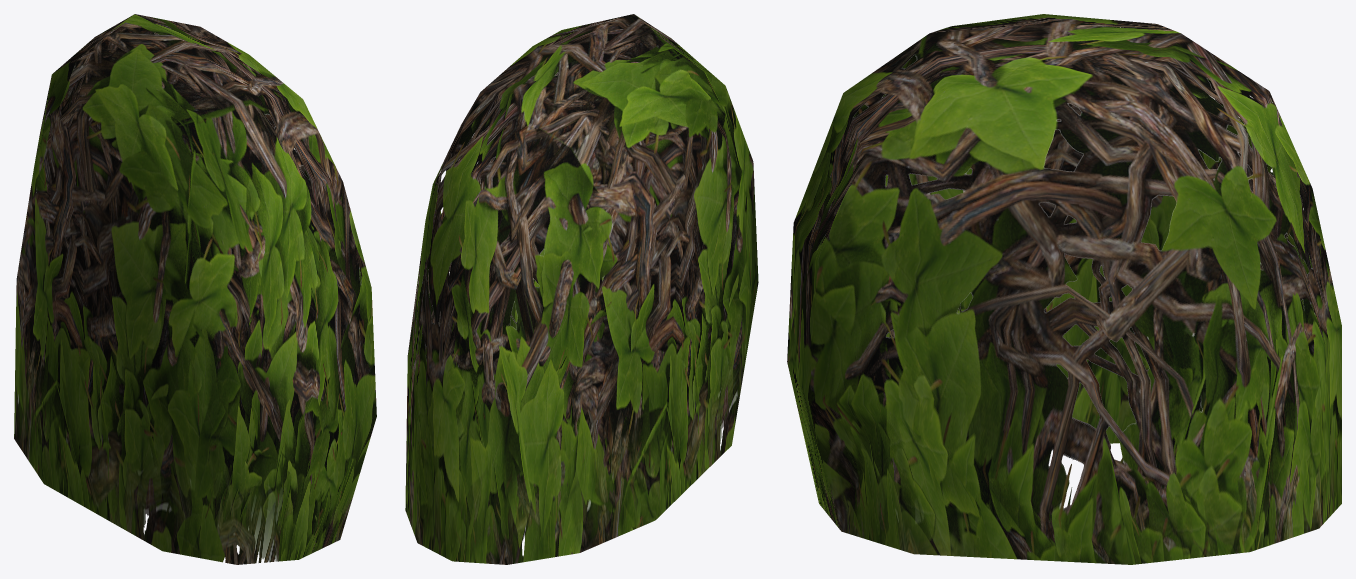
File: LCN_ENV_EP_MILLVINE.fbx
3 views of the same model, side by side, from view 1: azimuth 30°, elevation 25°; view 2: azimuth 150°, elevation 25°; view 3: azimuth 270°, elevation 25° (orthographic). The views are drawn at different scales.
Visible parts, largest first — view 1: OBJ_MILLVINE; view 2: OBJ_MILLVINE; view 3: OBJ_MILLVINE.
Boxes of the visible parts, box(x1,y1,x2,y2) form: OBJ_MILLVINE: box(14, 14, 376, 564); OBJ_MILLVINE: box(405, 14, 758, 564); OBJ_MILLVINE: box(787, 14, 1341, 564).
Size of the model in its own units: 5.82 by 10.66 by 11.14.
